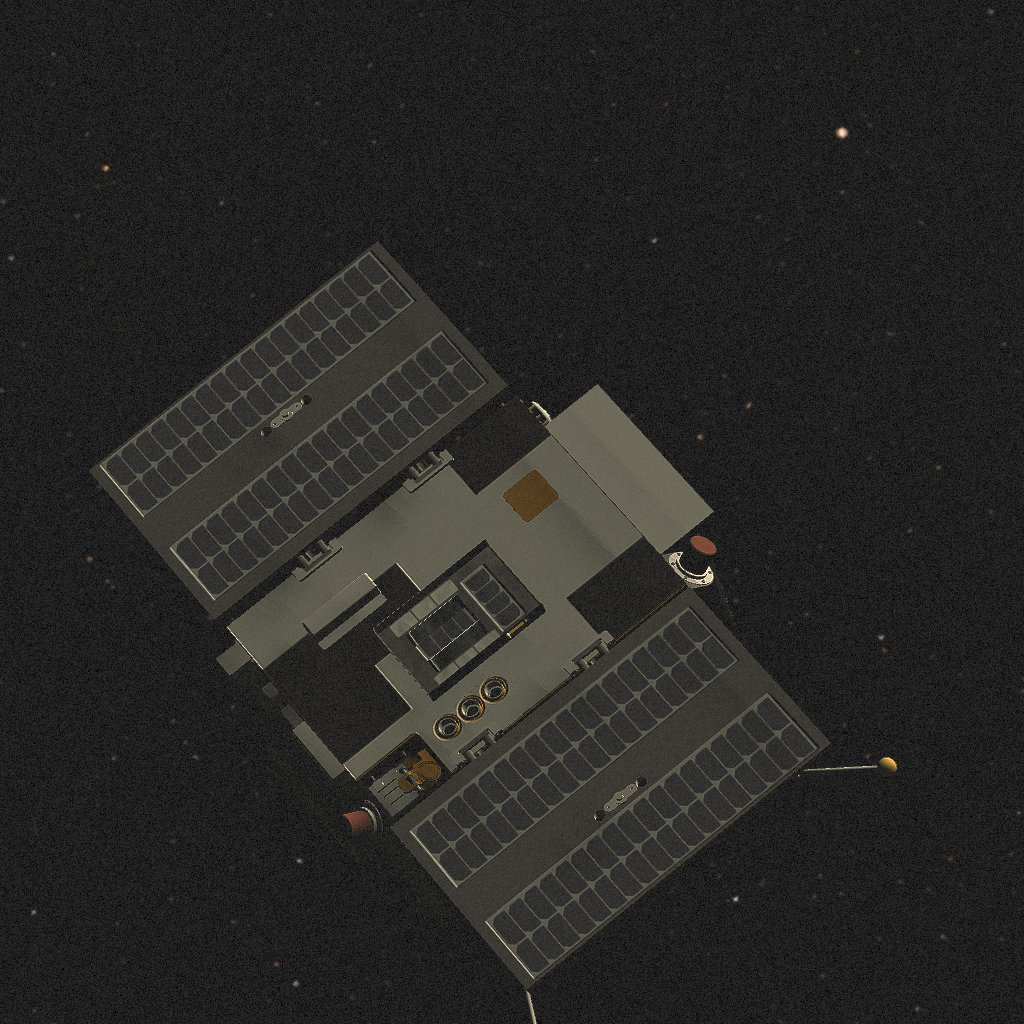proba_2: (89, 241, 897, 1024)
